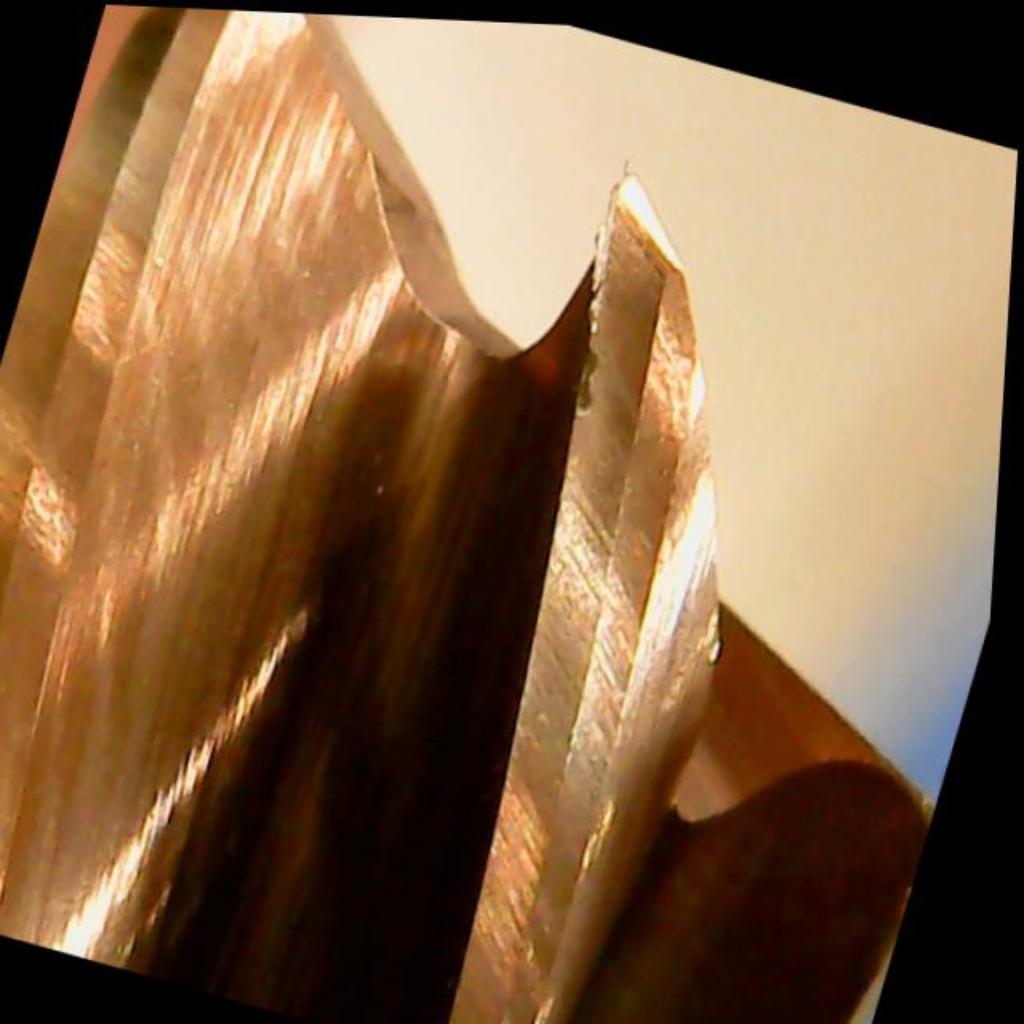Tool-wear-class-1: (439, 146, 836, 729)
